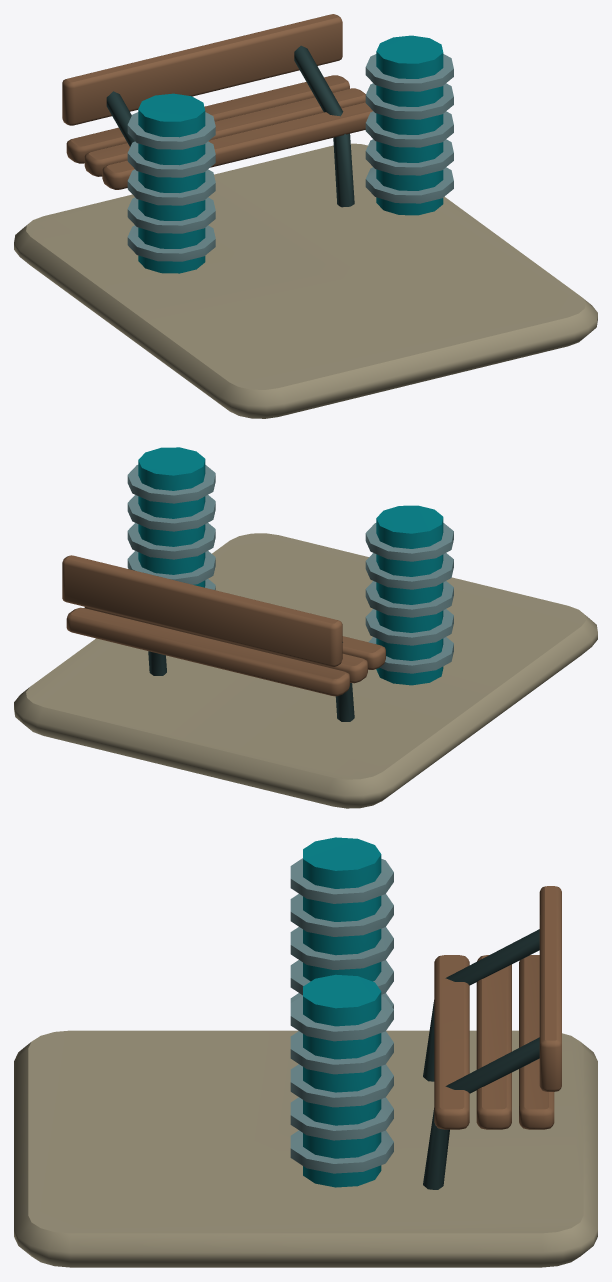
The model's file is ocean_wash_1.glb.
3 views of the same model, one above another, from view 1: azimuth 30°, elevation 25°; view 2: azimuth 150°, elevation 25°; view 3: azimuth 270°, elevation 25° (orthographic). The views are drawn at different scales.
Parts seen in each view (by area): view 1: Wash1; view 2: Wash1; view 3: Wash1.
Part boxes in pixels (x1,y1,x2,y2): Wash1: [14, 14, 597, 418]; Wash1: [14, 447, 597, 808]; Wash1: [14, 837, 597, 1267].
Size of the model in its own units: 2.16 by 1.14 by 2.48.
